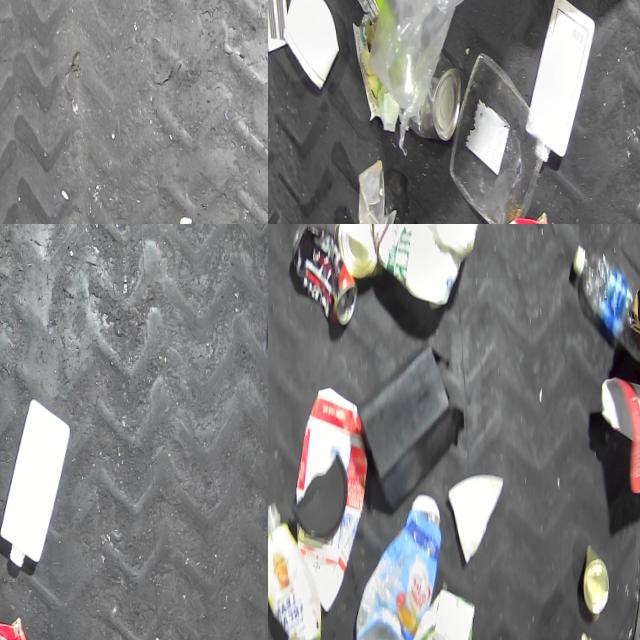can: (286, 225, 354, 338), (394, 52, 459, 147), (570, 553, 612, 637), (336, 224, 378, 302)
milk_jug: (513, 0, 597, 174), (0, 402, 71, 577), (365, 224, 480, 330)
plastic_bottle: (564, 253, 640, 385)
